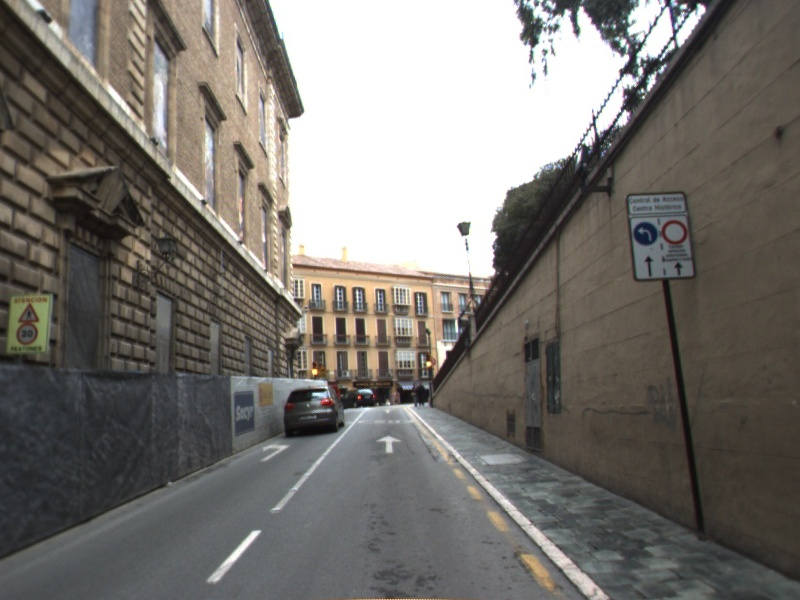LEFT: (258, 441, 293, 463)
STRAIGHT: (374, 433, 403, 455)
